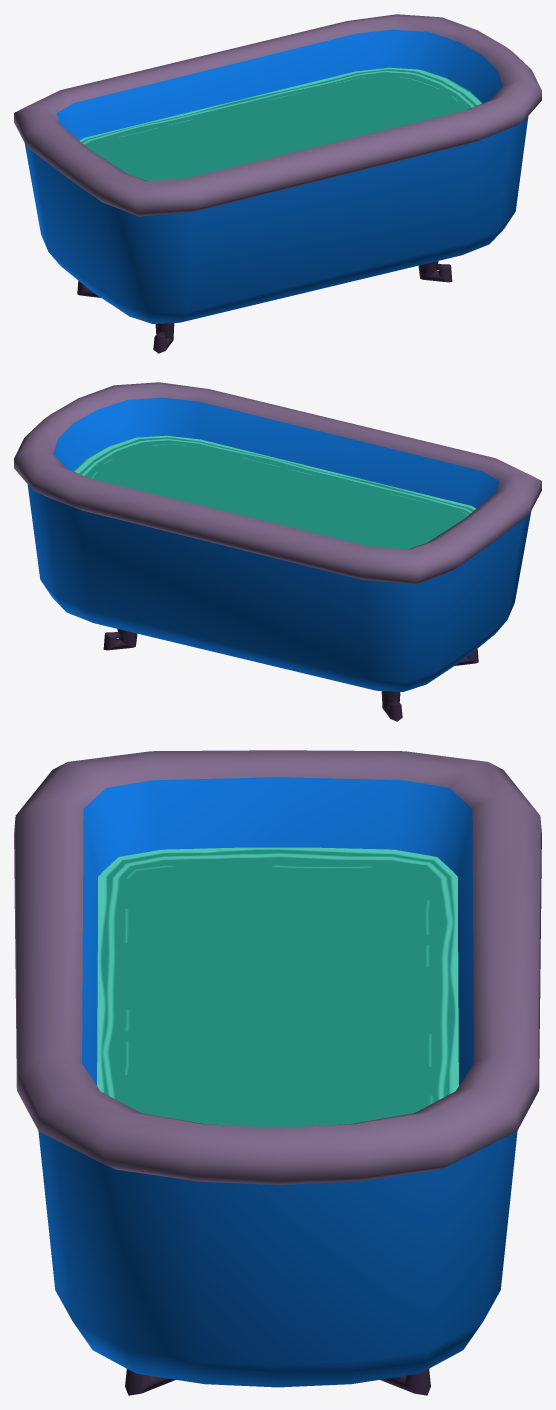
File: Bath_Tub_.fbx
3 renders of one model, top to bottom at view 1: azimuth 30°, elevation 25°; view 2: azimuth 150°, elevation 25°; view 3: azimuth 270°, elevation 25°, orthographic. The views are drawn at different scales.
Visible parts, largest first — view 1: bath; view 2: bath; view 3: bath.
Boxes of the visible parts, <box> form: bath: <box>14,14,541,353</box>; bath: <box>14,382,541,721</box>; bath: <box>14,750,541,1395</box>.
Bounding box in the file's own units: 2.08 × 0.8185 × 1.14.
